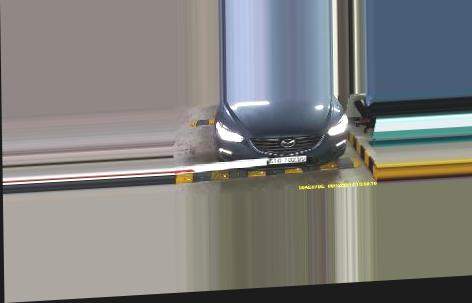License_Plate: (266, 154, 308, 165)
